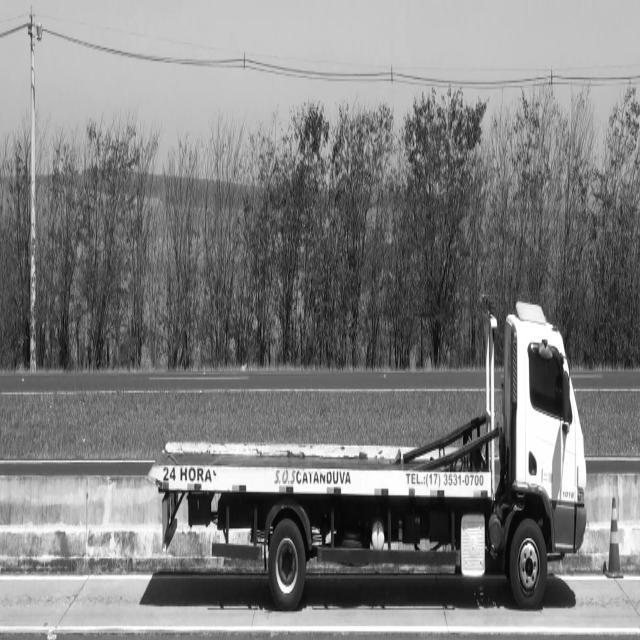Pole: (29, 6, 36, 373)
Truck: (154, 302, 586, 610)
